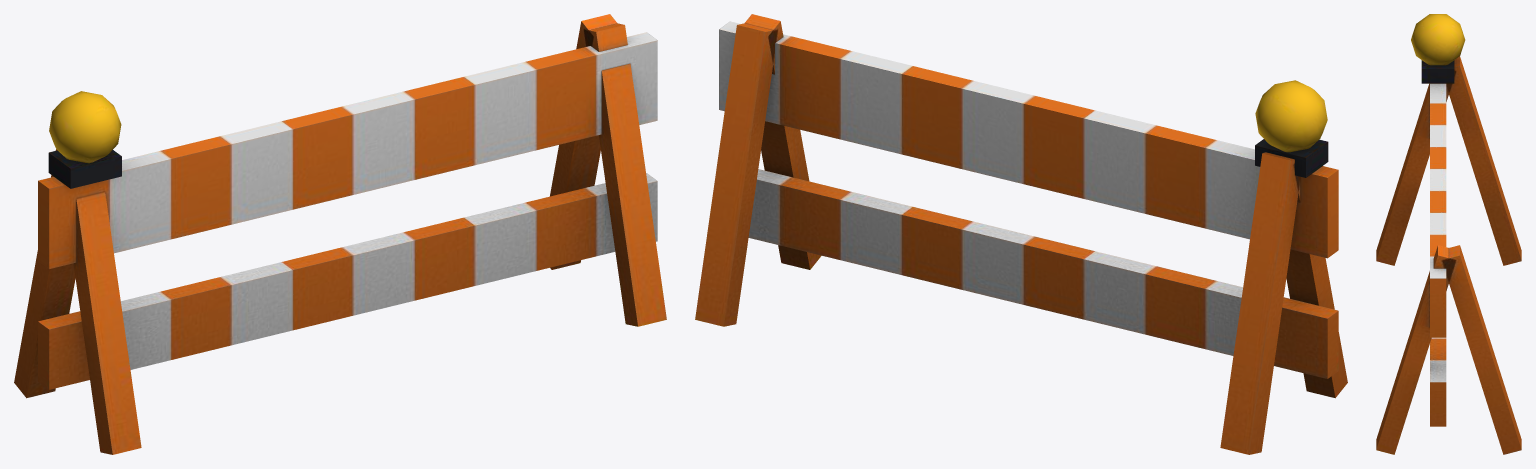
File: barricada.glb
3 renders of one model, left to right at view 1: azimuth 30°, elevation 25°; view 2: azimuth 150°, elevation 25°; view 3: azimuth 270°, elevation 25°, orthographic. The views are drawn at different scales.
Parts seen in each view (by area): view 1: barricada; view 2: barricada; view 3: barricada.
Boxes of the visible parts, x1=… form: barricada: x1=14, y1=14, x2=666, y2=454; barricada: x1=695, y1=14, x2=1347, y2=454; barricada: x1=1376, y1=14, x2=1521, y2=454.
Bounding box in the file's own units: 1.9 × 0.9937 × 0.5339.
1 material, 1 textured.
